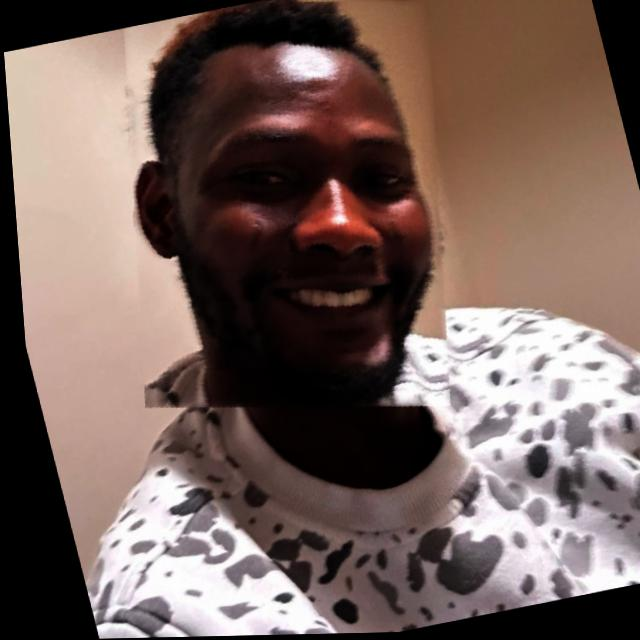happy: (67, 0, 500, 449)
